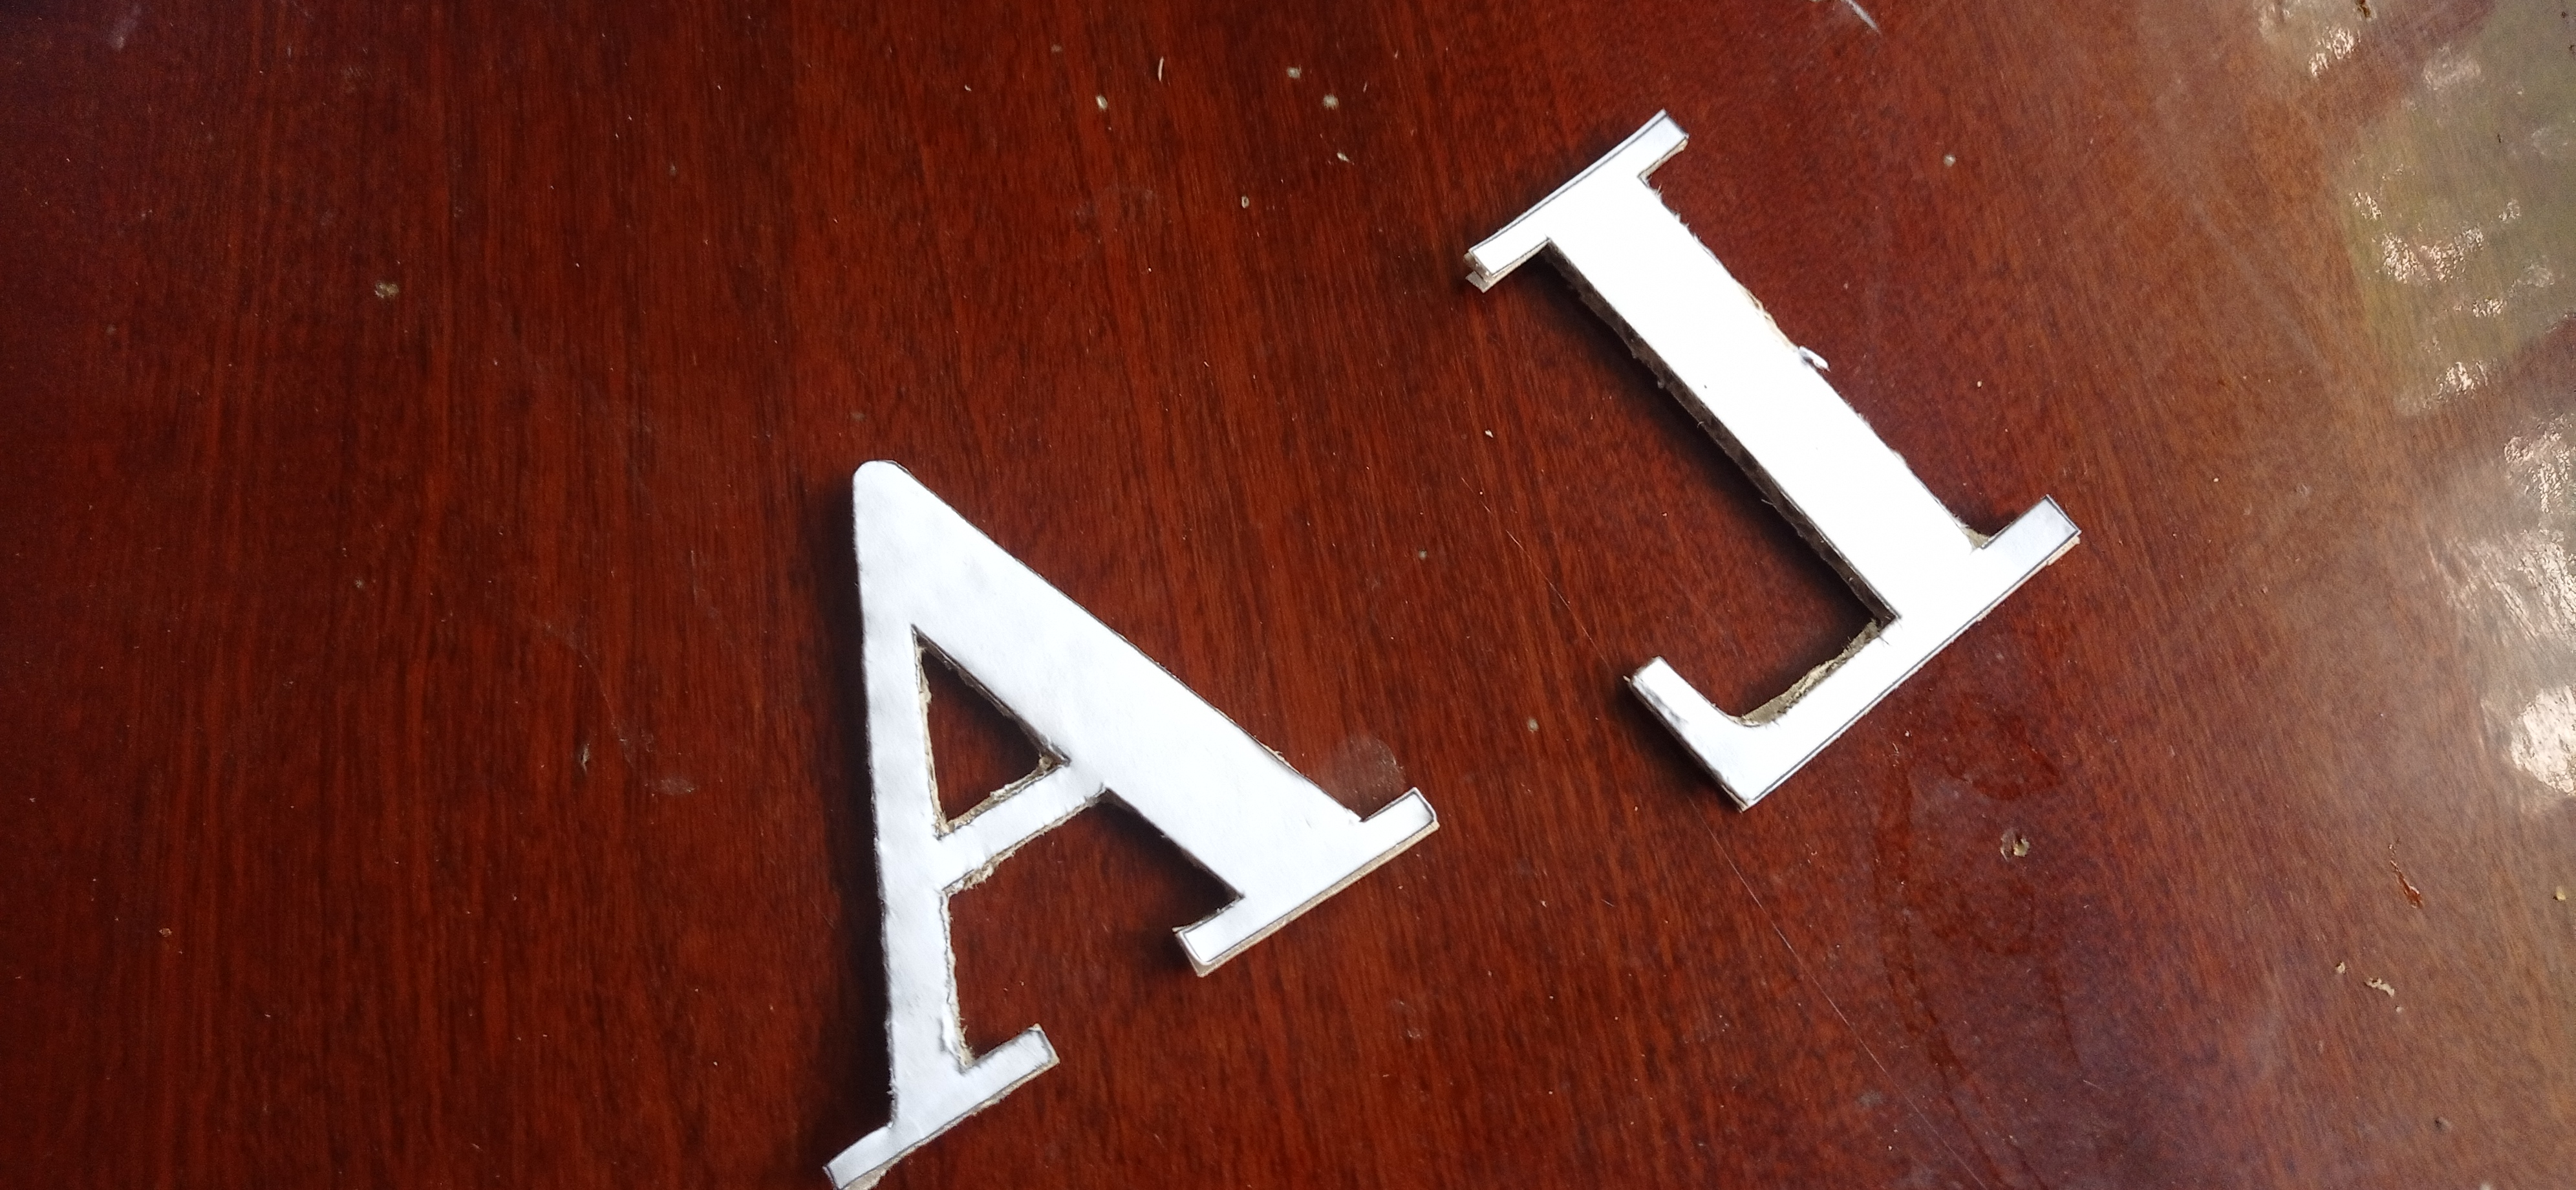a: (820, 452, 1439, 1190)
g: (1459, 110, 2083, 810)
